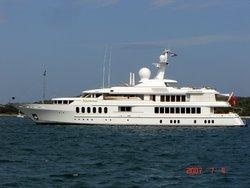yacht: (7, 44, 246, 127)
